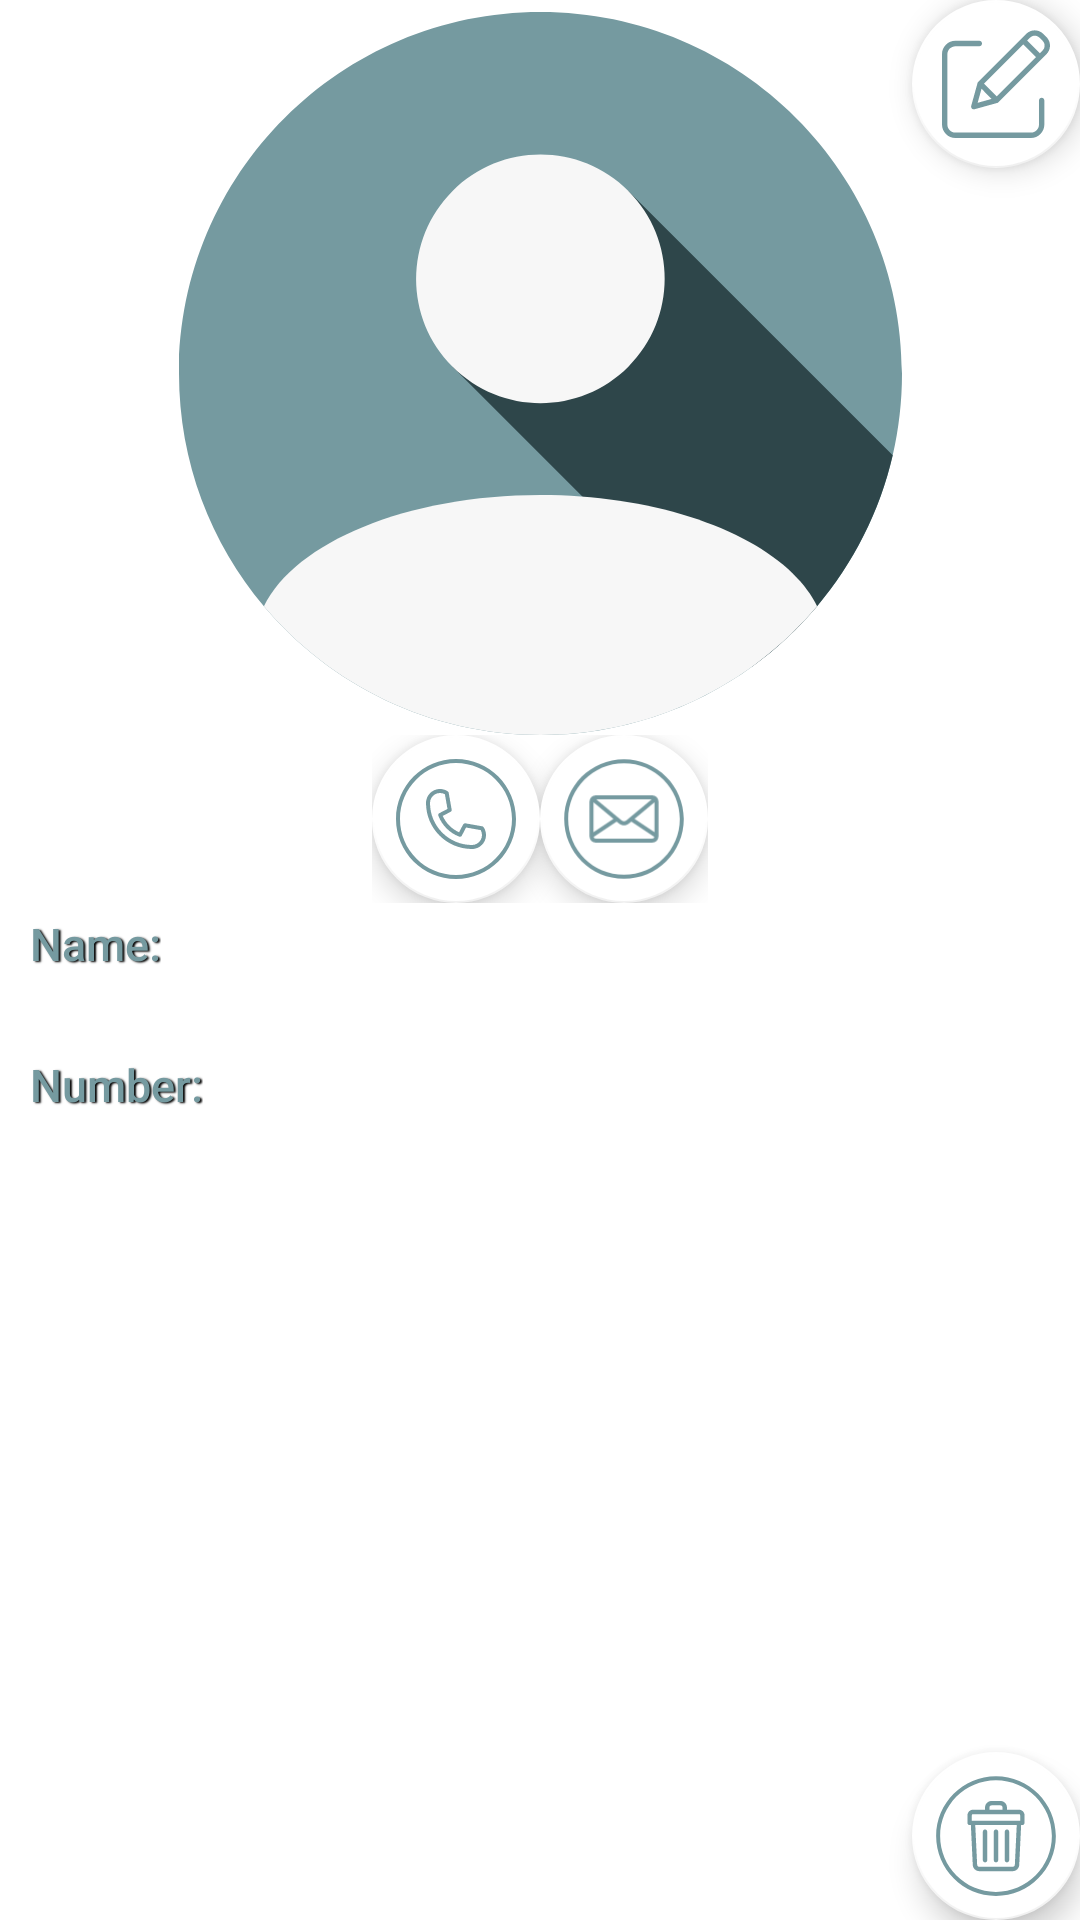

Where to tap for icons on this 1080px x 1920px app screen, as (x=x, y=y):
delete: (x=999, y=1848)
edit: (x=1011, y=87)
message: (x=624, y=831)
phone call: (x=456, y=831)
